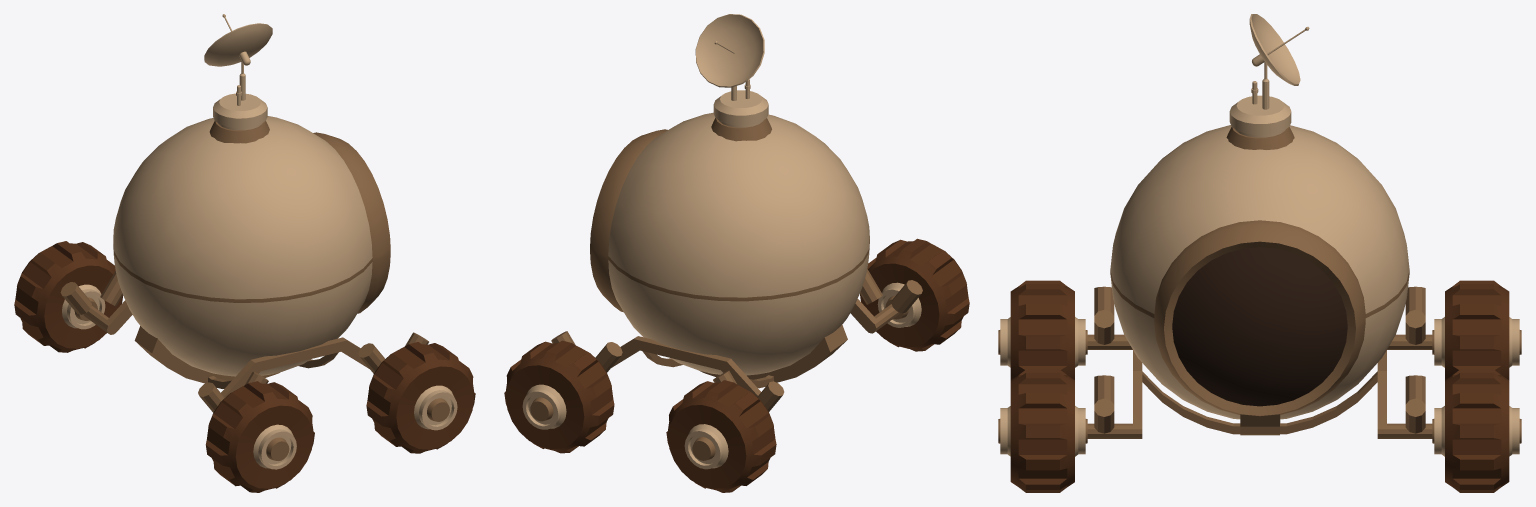
The model's file is block-rover2.glb.
3 views of the same model, side by side, from view 1: azimuth 30°, elevation 25°; view 2: azimuth 150°, elevation 25°; view 3: azimuth 270°, elevation 25° (orthographic). The views are drawn at different scales.
Visible parts, largest first — view 1: Rover_Round, Wheel_2, Wheel_4, Wheel_1; view 2: Rover_Round, Wheel_1, Wheel_3, Wheel_4; view 3: Rover_Round, Wheel_2, Wheel_3, Wheel_1, Wheel_4.
Part boxes in pixels (x1,y1,x2,y2): Rover_Round: (60, 14, 428, 412); Wheel_2: (366, 342, 475, 453); Wheel_4: (205, 381, 314, 492); Wheel_1: (14, 241, 123, 352); Rover_Round: (551, 14, 922, 411); Wheel_1: (666, 380, 776, 492); Wheel_3: (504, 340, 614, 453); Wheel_4: (860, 238, 969, 351); Rover_Round: (1087, 14, 1432, 438); Wheel_2: (998, 369, 1087, 492); Wheel_3: (1432, 369, 1521, 492); Wheel_1: (1432, 280, 1521, 379); Wheel_4: (998, 280, 1087, 379).
Size of the model in its own units: 1.86 by 2.6 by 2.91.
Materials: 1 (1 with a texture image).
